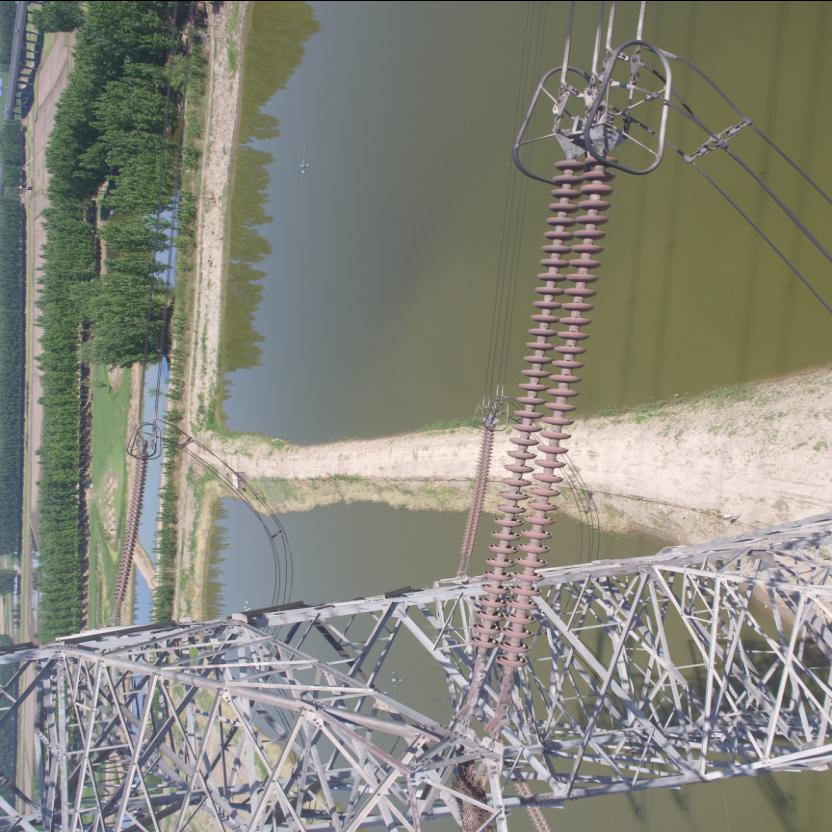insulator: (469, 146, 617, 682), (110, 447, 146, 604), (456, 422, 496, 559)
